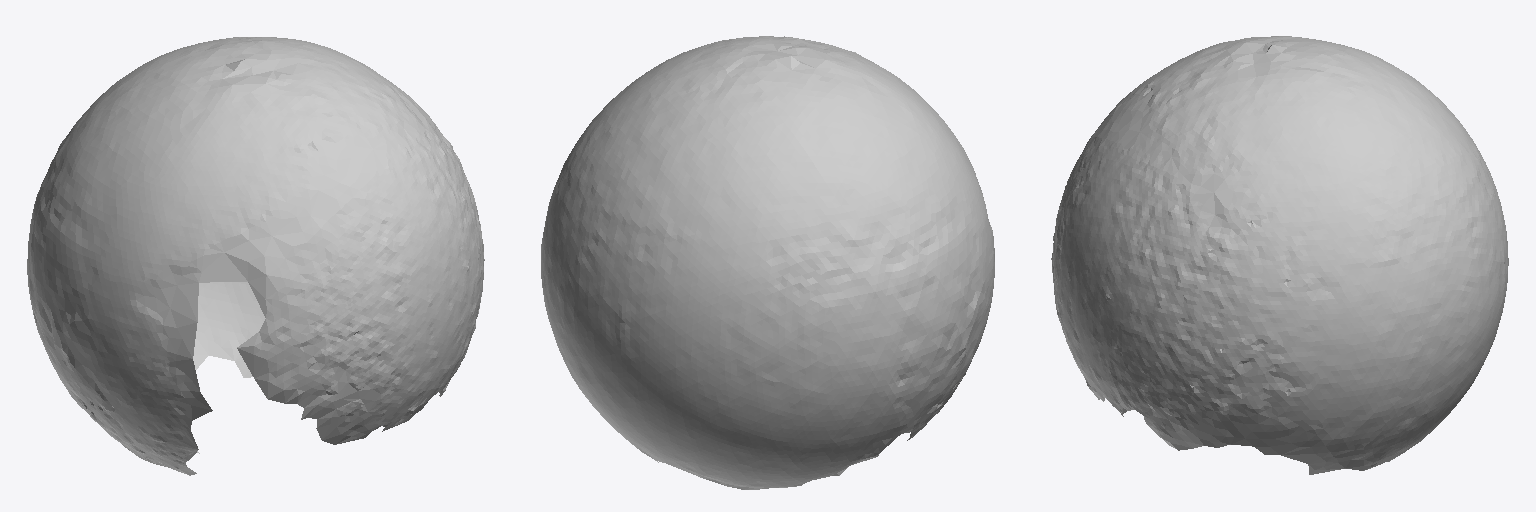
The model's file is Gridtest_0_1_0.000001.obj.
3 renders of one model, left to right at view 1: azimuth 30°, elevation 25°; view 2: azimuth 150°, elevation 25°; view 3: azimuth 270°, elevation 25°, orthographic.
Size of the model in its own units: 299 by 293 by 301.